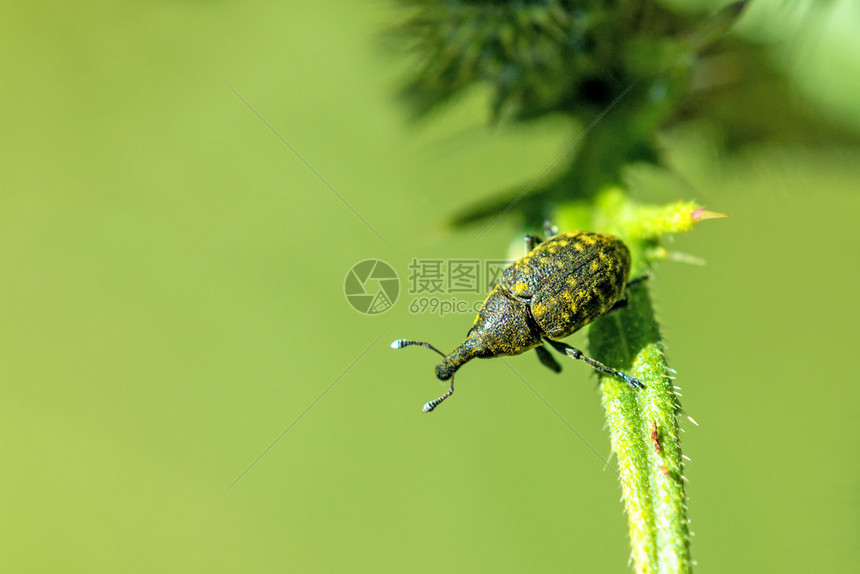Curculionidae: (389, 228, 649, 414)
